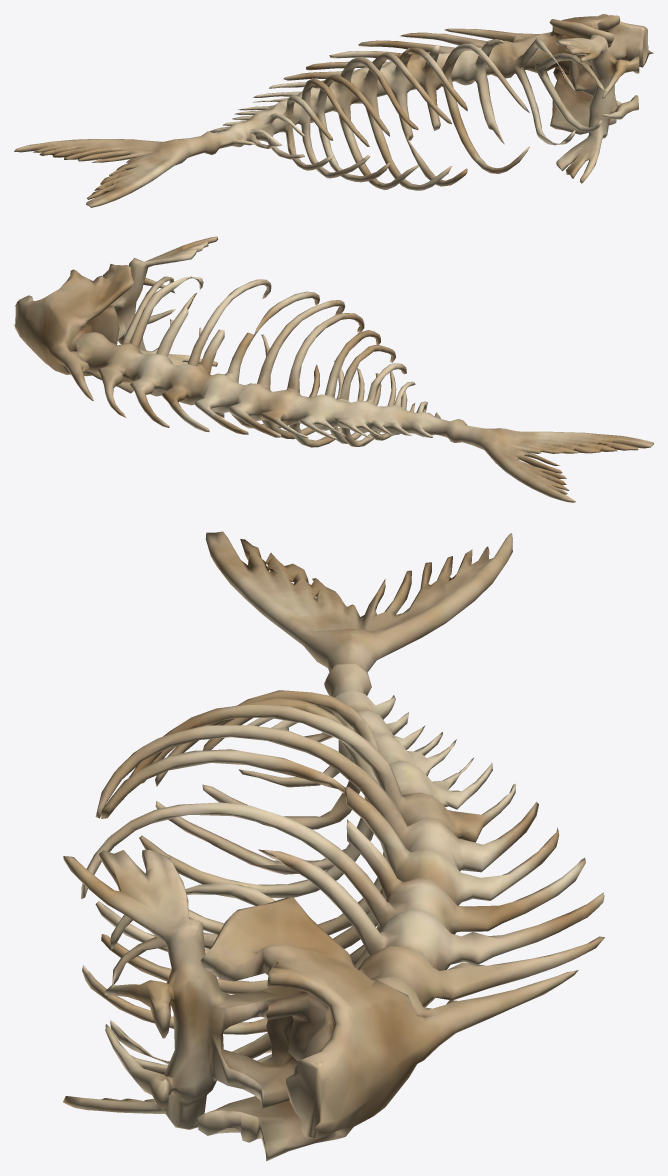
File: bone_cracked_m.glb
The picture shows the model from 3 angles, top to bottom: view 1: azimuth 30°, elevation 25°; view 2: azimuth 150°, elevation 25°; view 3: azimuth 270°, elevation 25°; orthographic projection. The views are drawn at different scales.
Visible parts, largest first — view 1: bone_cracked_m; view 2: bone_cracked_m; view 3: bone_cracked_m.
Part boxes in pixels (x1=…): bone_cracked_m: x1=14, y1=14, x2=653, y2=207; bone_cracked_m: x1=14, y1=236, x2=653, y2=502; bone_cracked_m: x1=63, y1=531, x2=604, y2=1161.
Size of the model in its own units: 0.3 by 0.0629 by 0.1192.
1 material, 1 textured.
